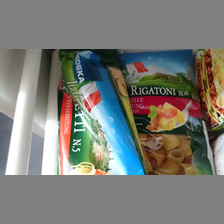pasta: (121, 50, 215, 174), (55, 50, 146, 174)
